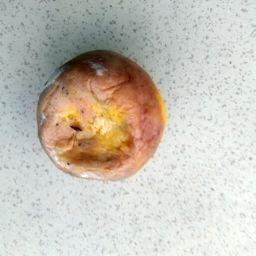orange: (35, 48, 168, 183)
